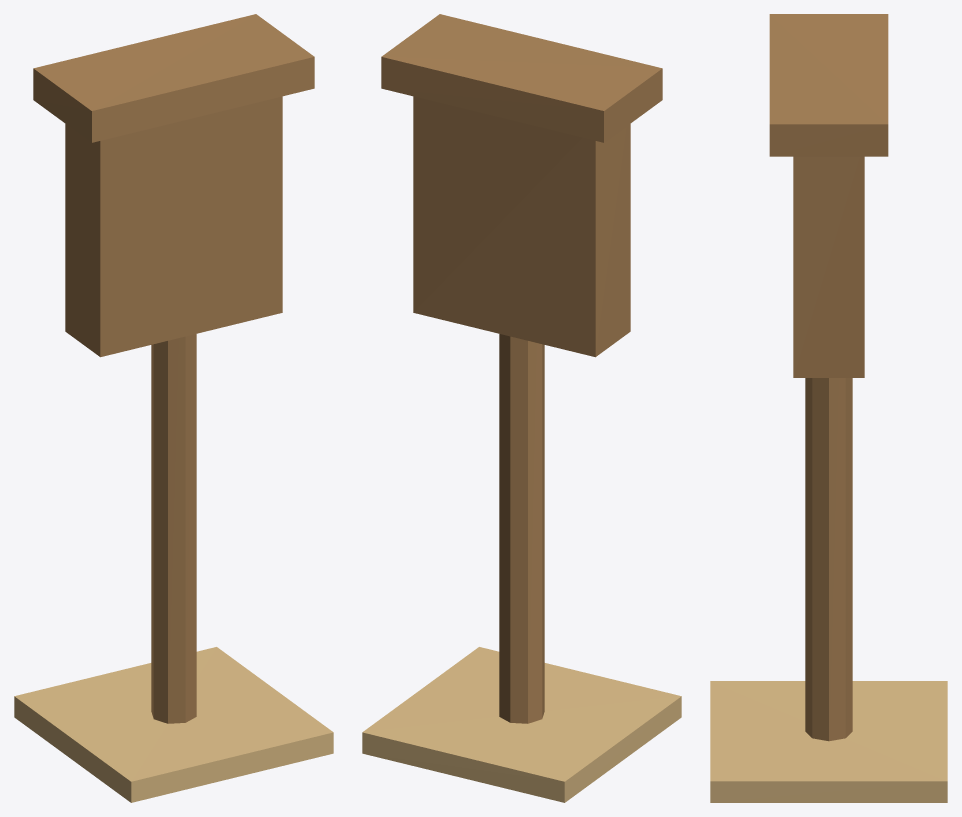
The model's file is Bat-house.glb.
The picture shows the model from 3 angles, left to right: view 1: azimuth 30°, elevation 25°; view 2: azimuth 150°, elevation 25°; view 3: azimuth 270°, elevation 25°; orthographic projection.
Parts seen in each view (by area): view 1: bat-house-static-bat-house-timber, bat-house-static-bat-house-earth, bat-house-static-bat-house-accent; view 2: bat-house-static-bat-house-timber, bat-house-static-bat-house-earth, bat-house-static-bat-house-accent; view 3: bat-house-static-bat-house-timber, bat-house-static-bat-house-earth, bat-house-static-bat-house-accent.
Boxes of the visible parts, left/top/right/bottom form: bat-house-static-bat-house-timber: left=65, top=96, right=282, bottom=723; bat-house-static-bat-house-earth: left=14, top=647, right=333, bottom=802; bat-house-static-bat-house-accent: left=33, top=14, right=314, bottom=142; bat-house-static-bat-house-timber: left=413, top=96, right=630, bottom=723; bat-house-static-bat-house-earth: left=362, top=647, right=681, bottom=802; bat-house-static-bat-house-accent: left=381, top=14, right=662, bottom=142; bat-house-static-bat-house-timber: left=793, top=156, right=864, bottom=741; bat-house-static-bat-house-earth: left=710, top=681, right=947, bottom=802; bat-house-static-bat-house-accent: left=769, top=14, right=888, bottom=156.
Size of the model in its own units: 1.1 by 3.17 by 1.
